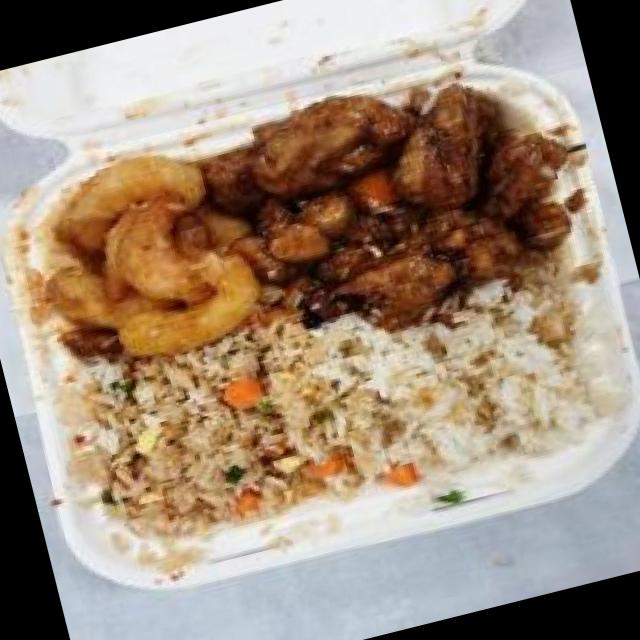Fried Rice: (36, 318, 375, 570)
Honey Walnut Shrimp: (0, 123, 292, 396)
The Original Orange Chicken: (189, 39, 596, 359)
White Steamed Rice: (330, 278, 622, 500)
